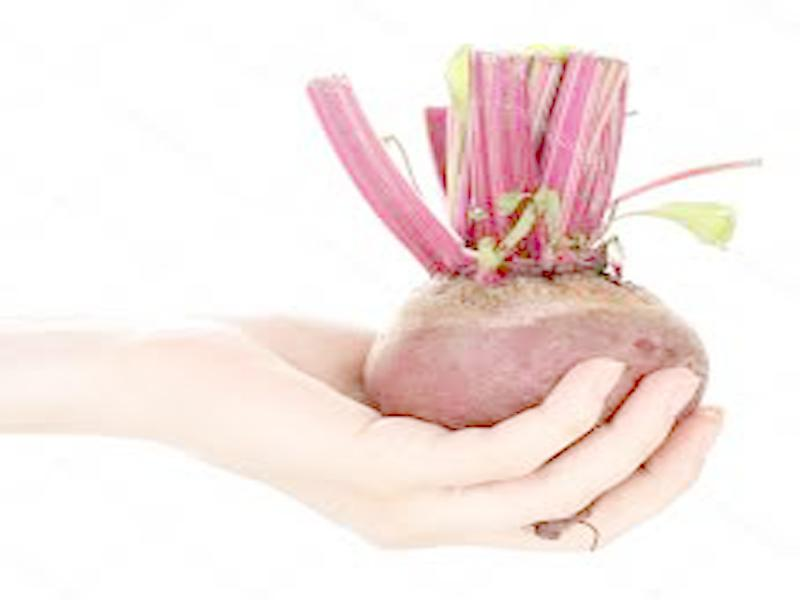Beet: (306, 46, 761, 543)
